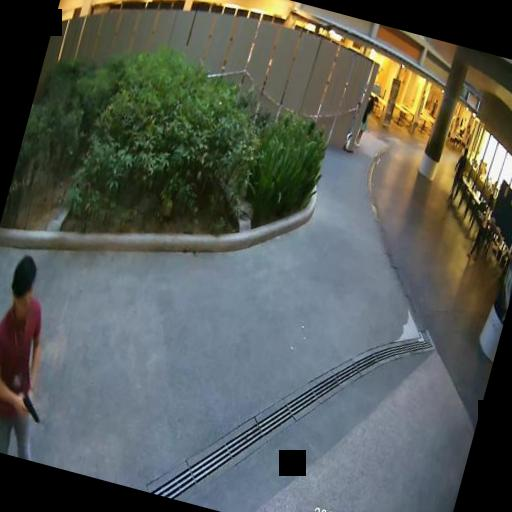Handgun: (16, 392, 42, 422)
